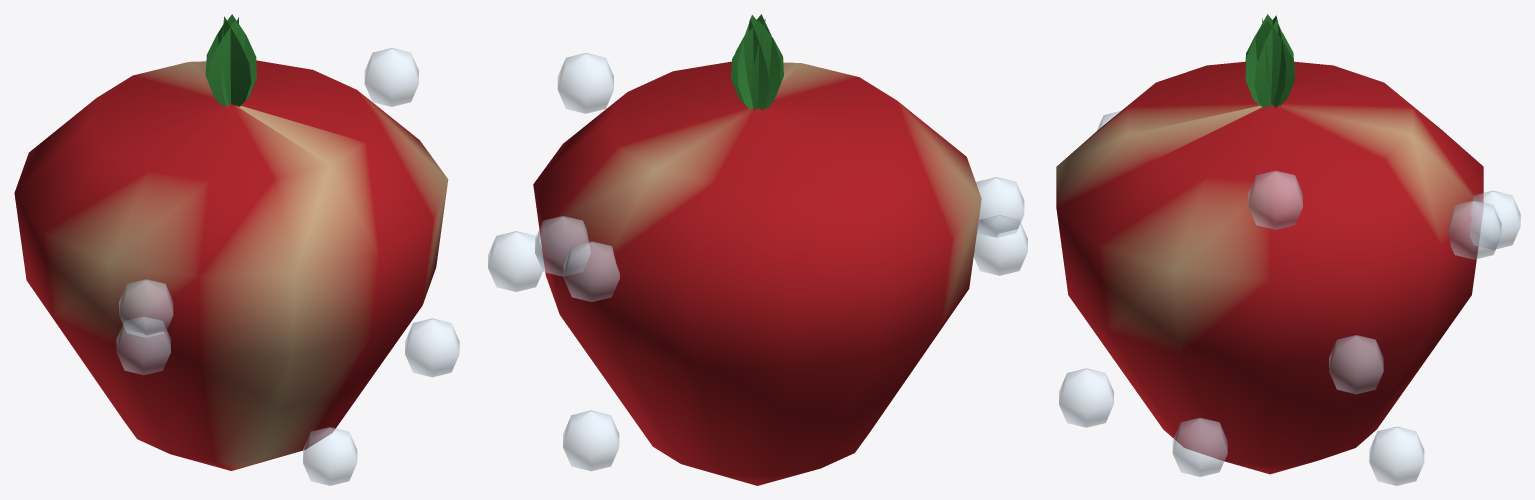
The model's file is fruit-strawberry-wet.gltf.
3 views of the same model, side by side, from view 1: azimuth 30°, elevation 25°; view 2: azimuth 150°, elevation 25°; view 3: azimuth 270°, elevation 25° (orthographic). The views are drawn at different scales.
Size of the model in its own units: 0.2717 by 0.29 by 0.2669.
